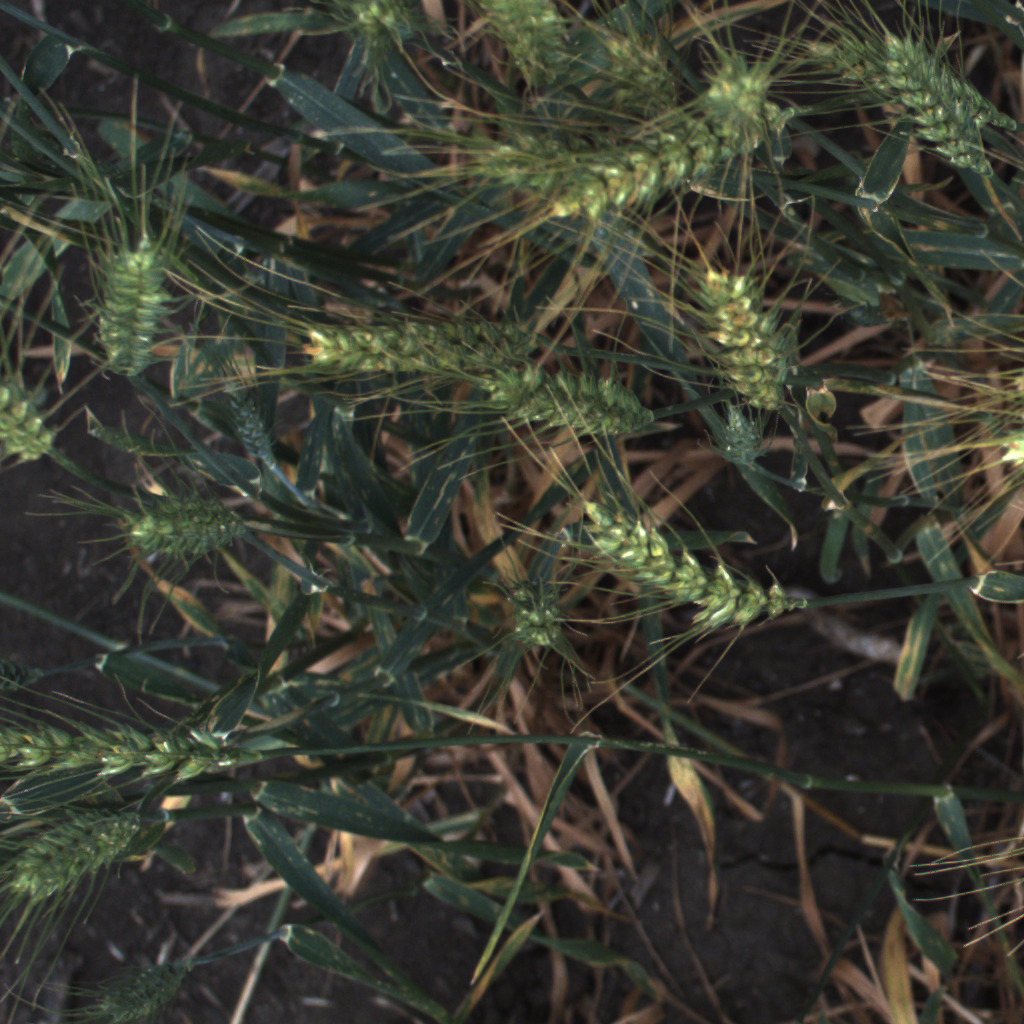wheat_head: (520, 106, 781, 235), (570, 501, 804, 642), (297, 307, 554, 382), (469, 351, 665, 445), (694, 261, 803, 422), (838, 69, 984, 189), (7, 806, 178, 901), (883, 29, 1017, 142), (0, 720, 240, 781), (89, 233, 183, 372), (119, 492, 257, 575), (590, 12, 685, 130), (76, 937, 199, 1024), (767, 32, 909, 107), (474, 0, 575, 103), (428, 132, 582, 194), (218, 358, 285, 481), (0, 367, 66, 476), (695, 53, 783, 128), (501, 576, 575, 661), (705, 405, 774, 481), (972, 406, 1024, 485)
